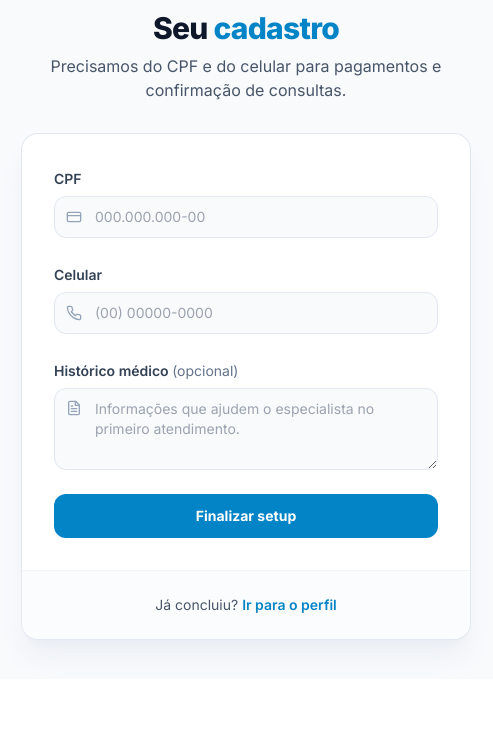
Test: PatientSetupPage › exibe mensagem quando API retorna erro
Type "12345678909" into the field labelled "CPF" at [246, 217], box [54, 196, 438, 238]
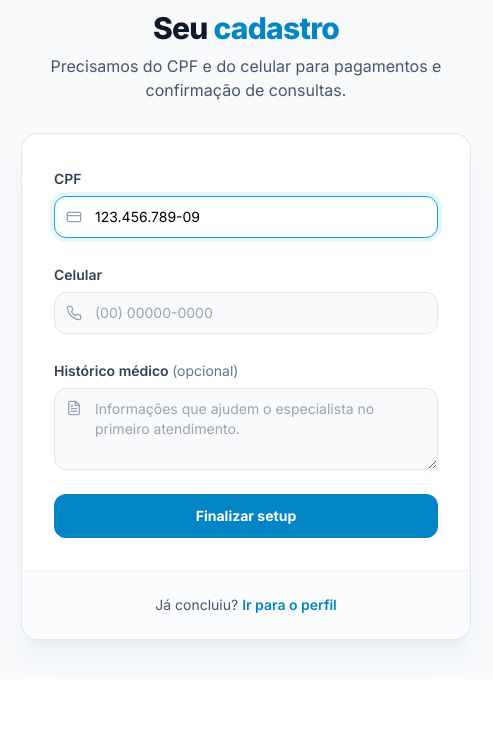
Type "11999999999" into the field labelled "Celular" at [246, 313], box [54, 292, 438, 334]
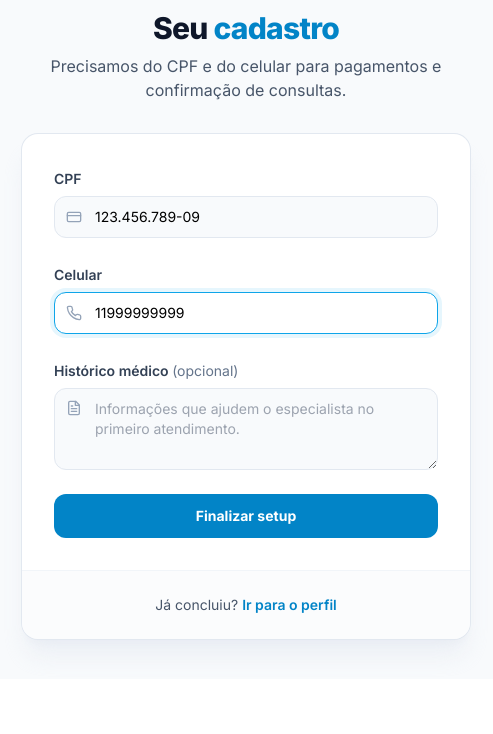
Click the button "Finalizar setup" at [246, 516], box [54, 494, 438, 538]
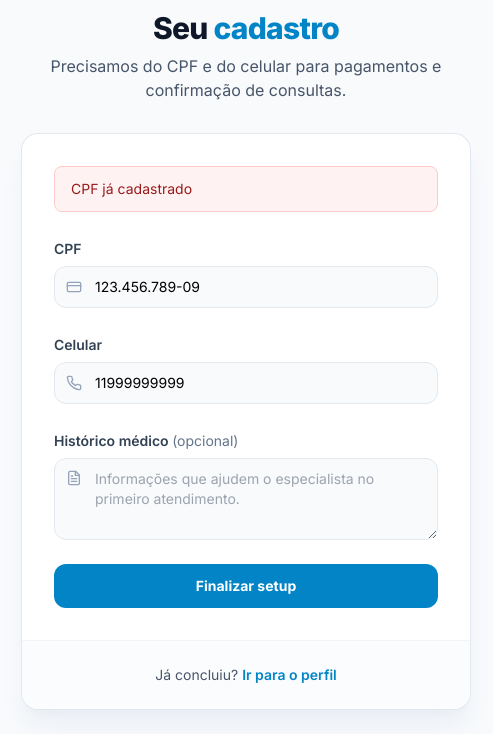
expect the text "CPF já cadastrado" is shown: met, box [54, 166, 438, 212]
